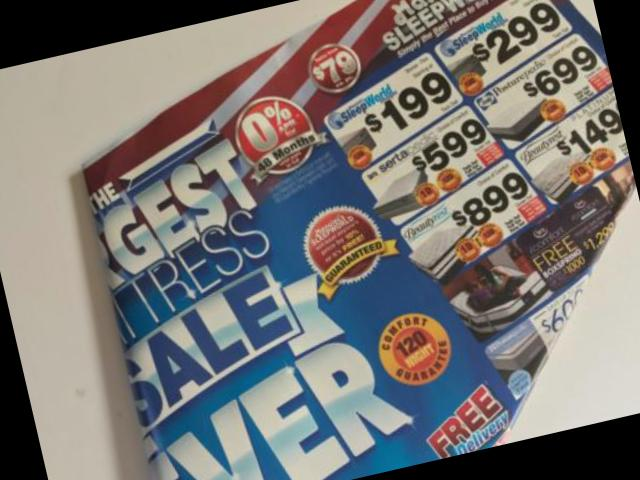cardboard paper: (85, 0, 636, 480)
